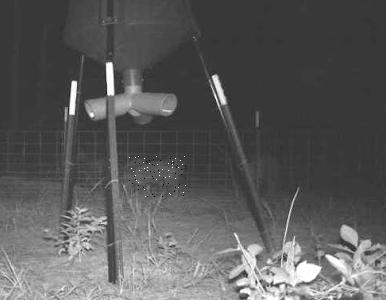Hog: (129, 156, 186, 198)
